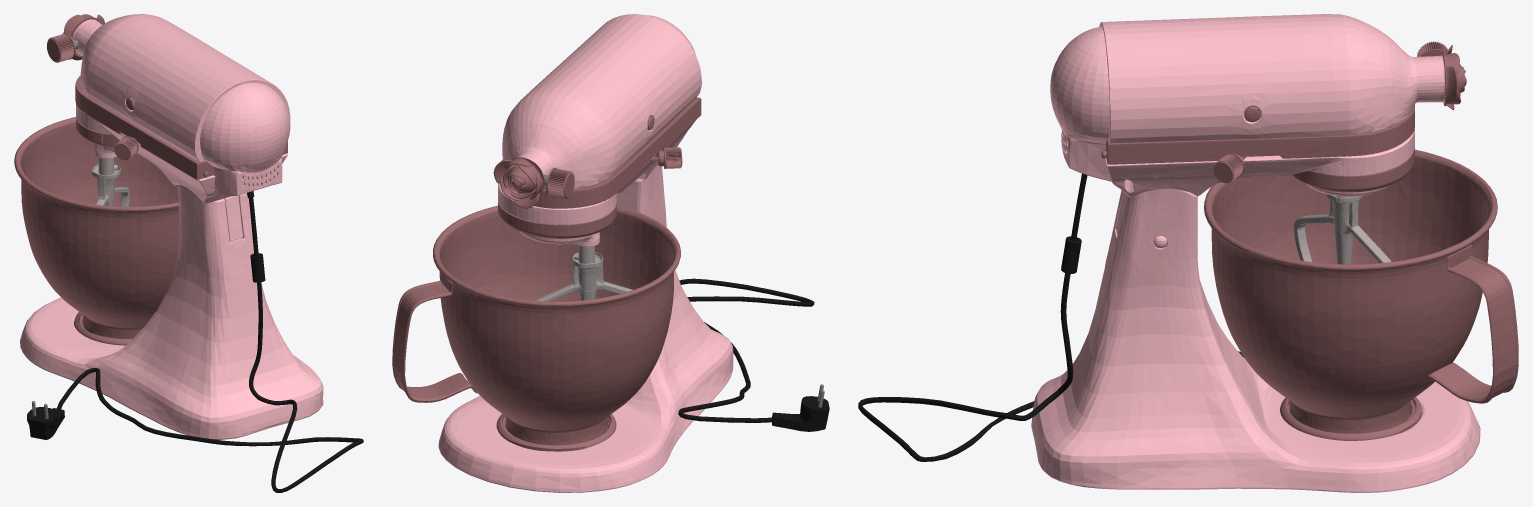
The model's file is mixer_rose.glb.
3 views of the same model, side by side, from view 1: azimuth 30°, elevation 25°; view 2: azimuth 150°, elevation 25°; view 3: azimuth 270°, elevation 25° (orthographic). The views are drawn at different scales.
Size of the model in its own units: 0.1146 by 0.1288 by 0.1859.
